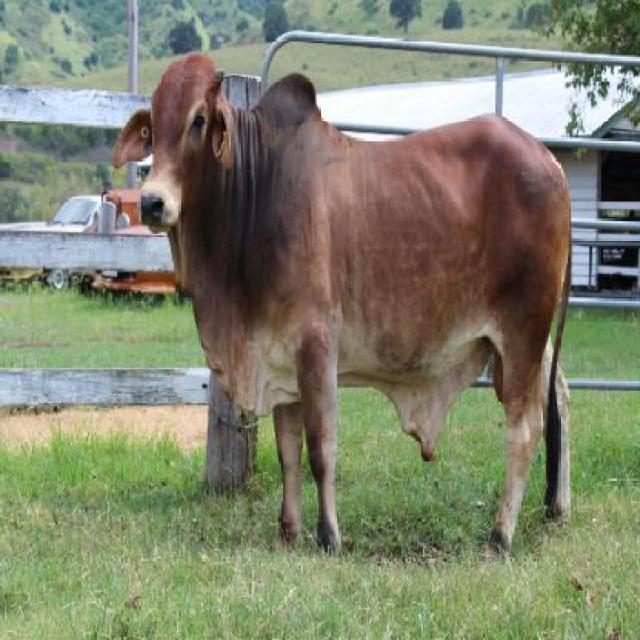Cow: (114, 52, 580, 560)
